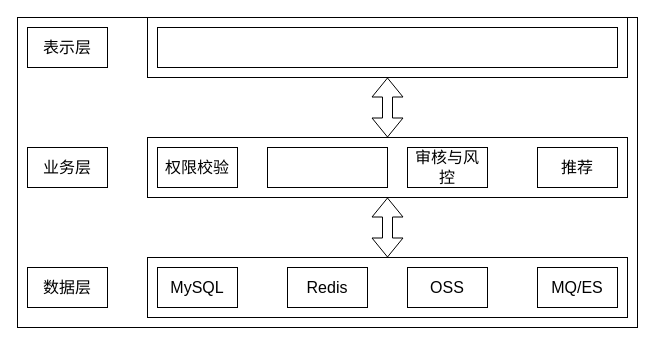
Some shapes in this 655 by 345 pixel diagram are drawn without their labels. The centre of each missing label's shape, as x and y in pixels:
"前端（Vue3，Pinia，Axios，Websocket）" goes at [387,47].
"商品/订单/支付/消息/评价" goes at [327,167].
